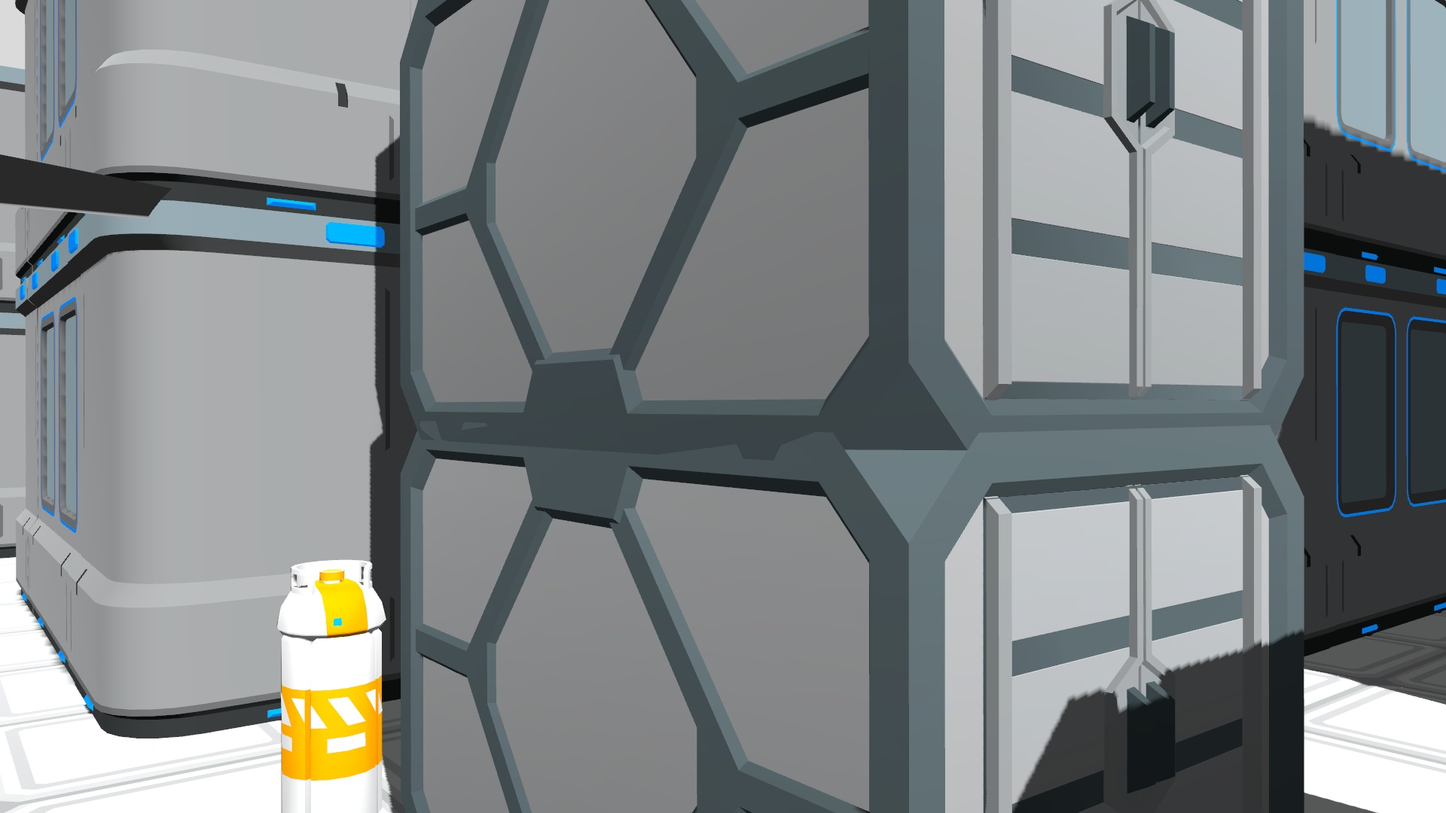yellow_barrel: (275, 554, 388, 813)
